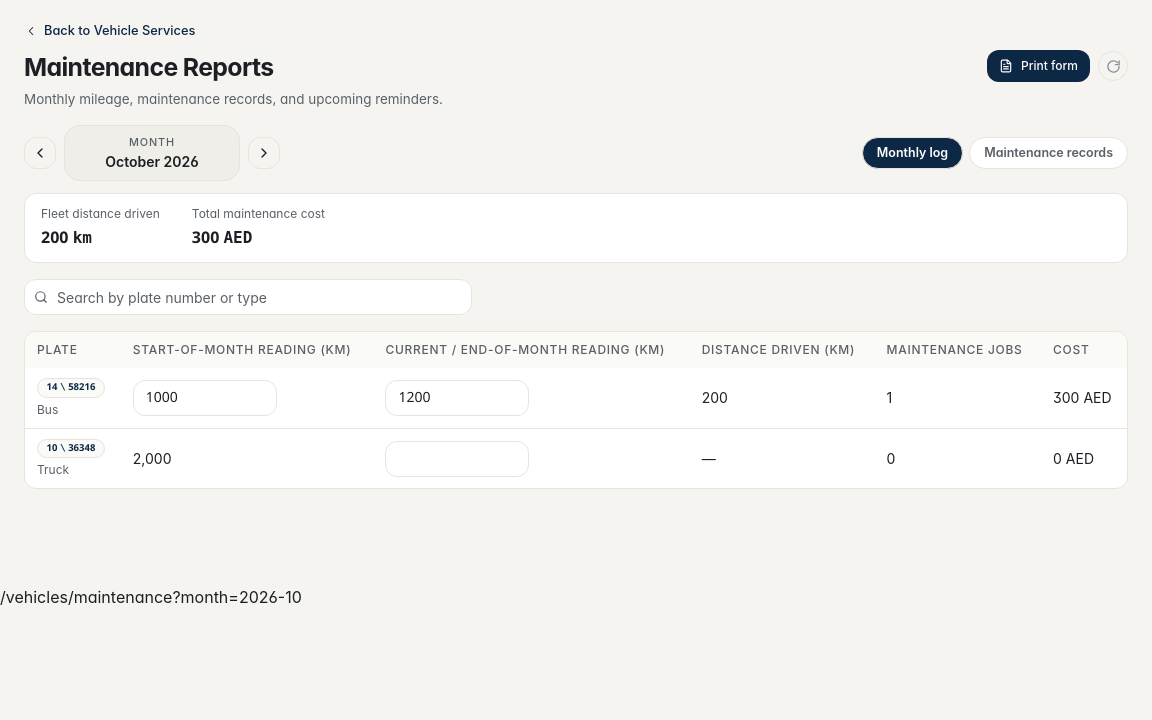
Test: monthly vehicle maintenance › prints selected vehicles and navigates to the book
Expected: the text "Bus" is shown, [37,402,58,418]
Click the button "Print form".
click(1039, 66)  # box [987,50,1090,82]
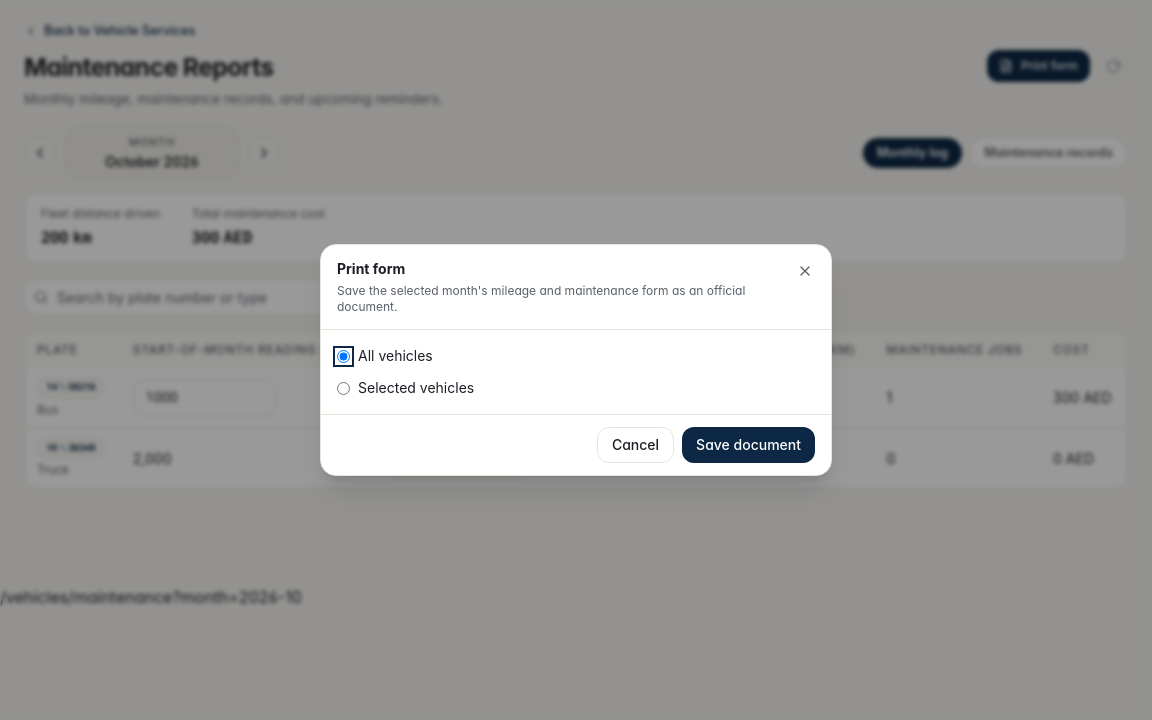
Expected: the radio button labelled "All vehicles" is checked, [337,350,350,362]
Click the radio button labelled "Selected vehicles".
click(344, 388)  # box [337,382,350,394]
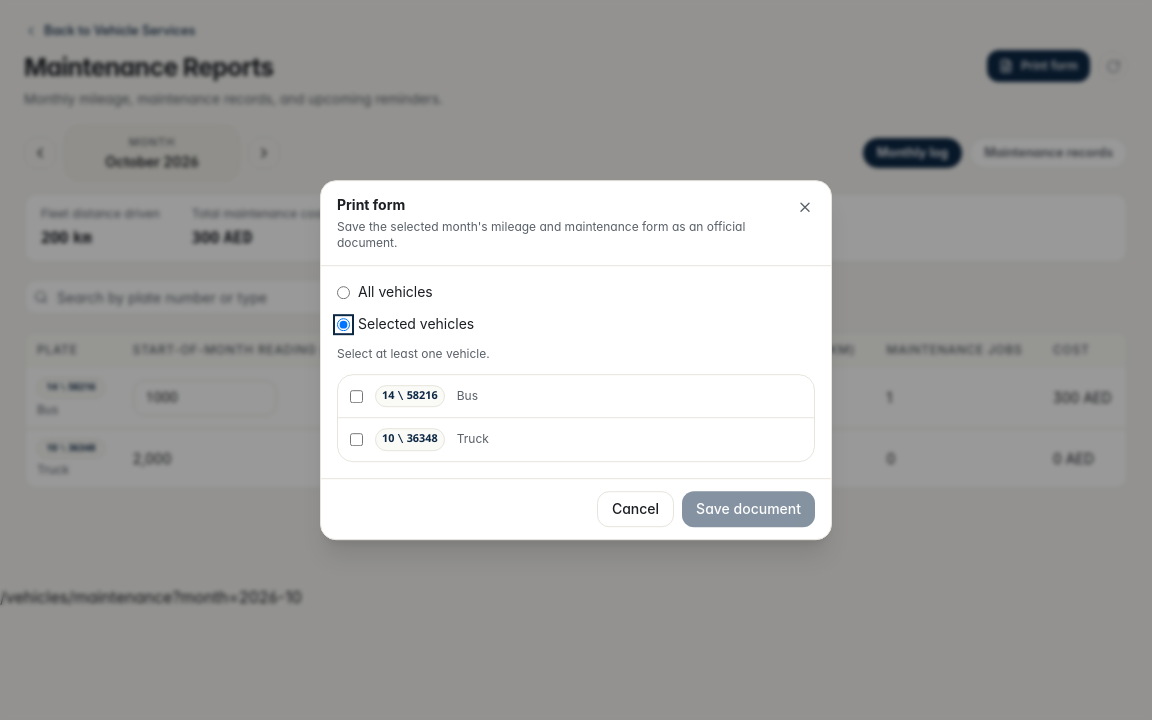
Expected: the button "Save document" is disabled, [682,491,815,527]
Click the checkbox labelled "14 \\ 58216 Bus".
click(356, 396)  # box [350,390,363,403]
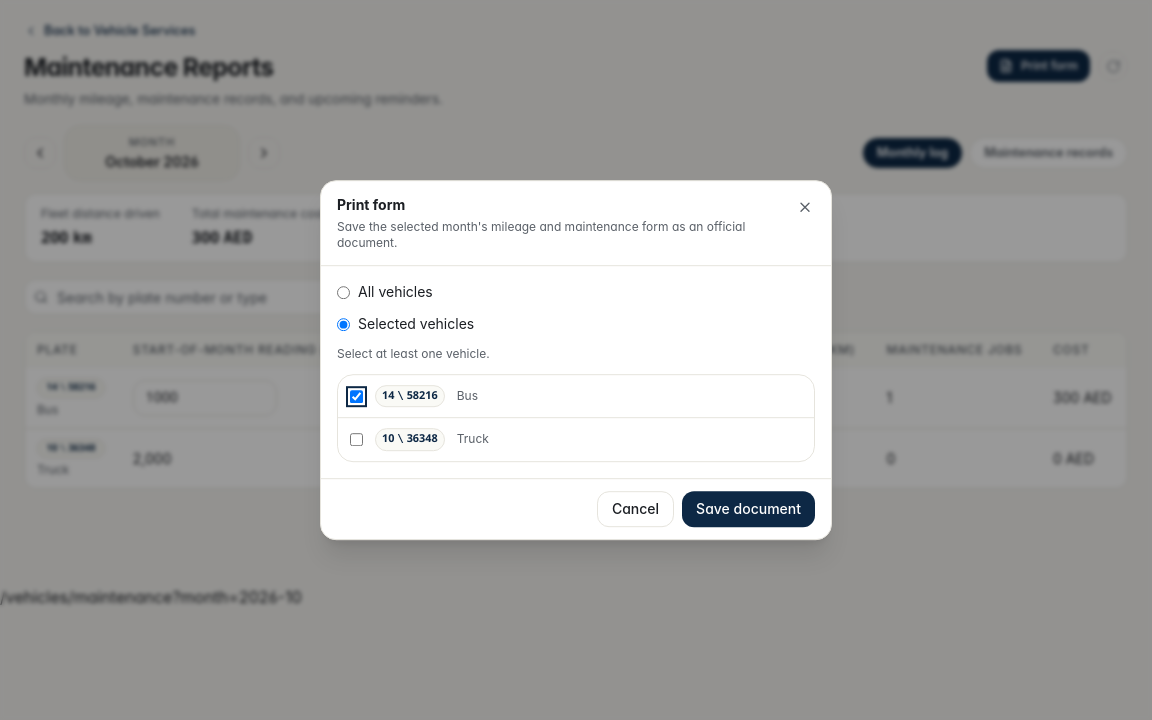
Click the button "Save document".
click(749, 509)  # box [682,491,815,527]
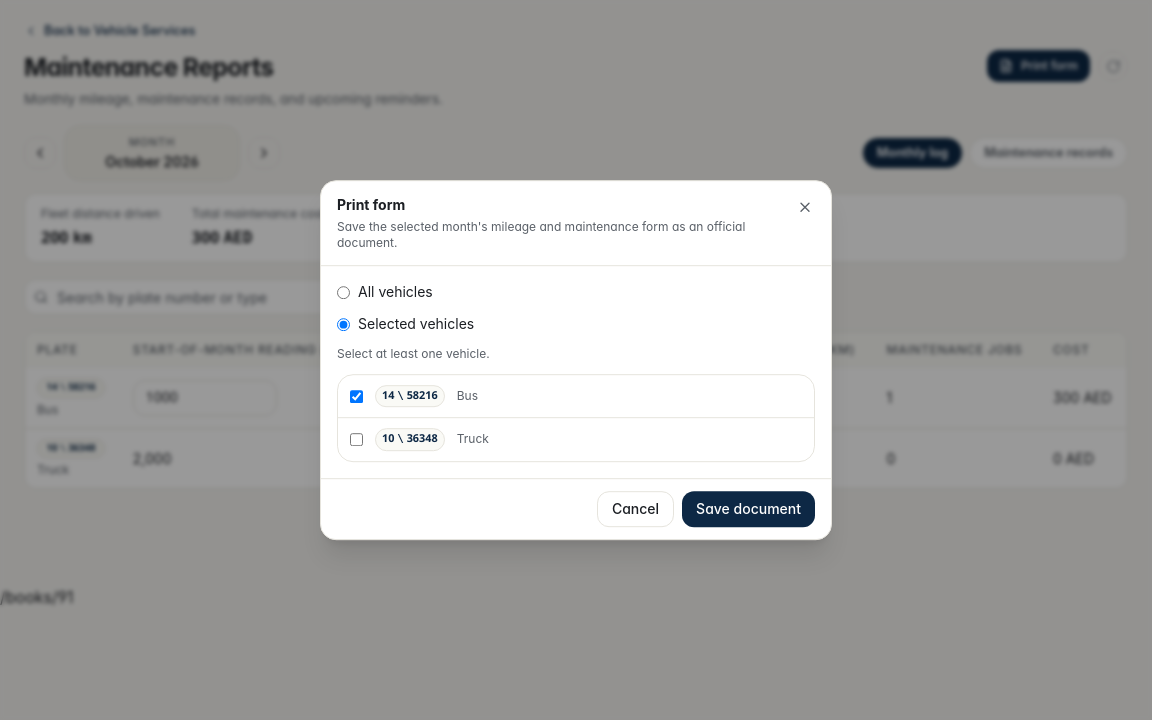
Expected: the text "/books/91" is shown, [0,587,74,607]
